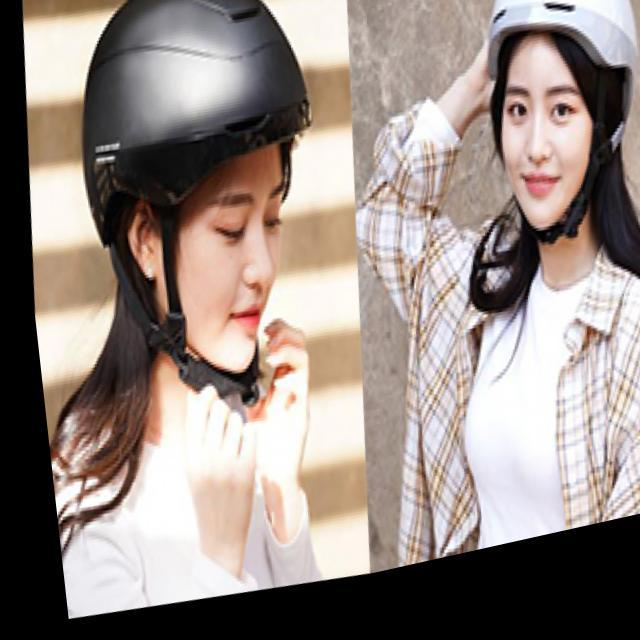Helmet: (60, 0, 339, 399)
